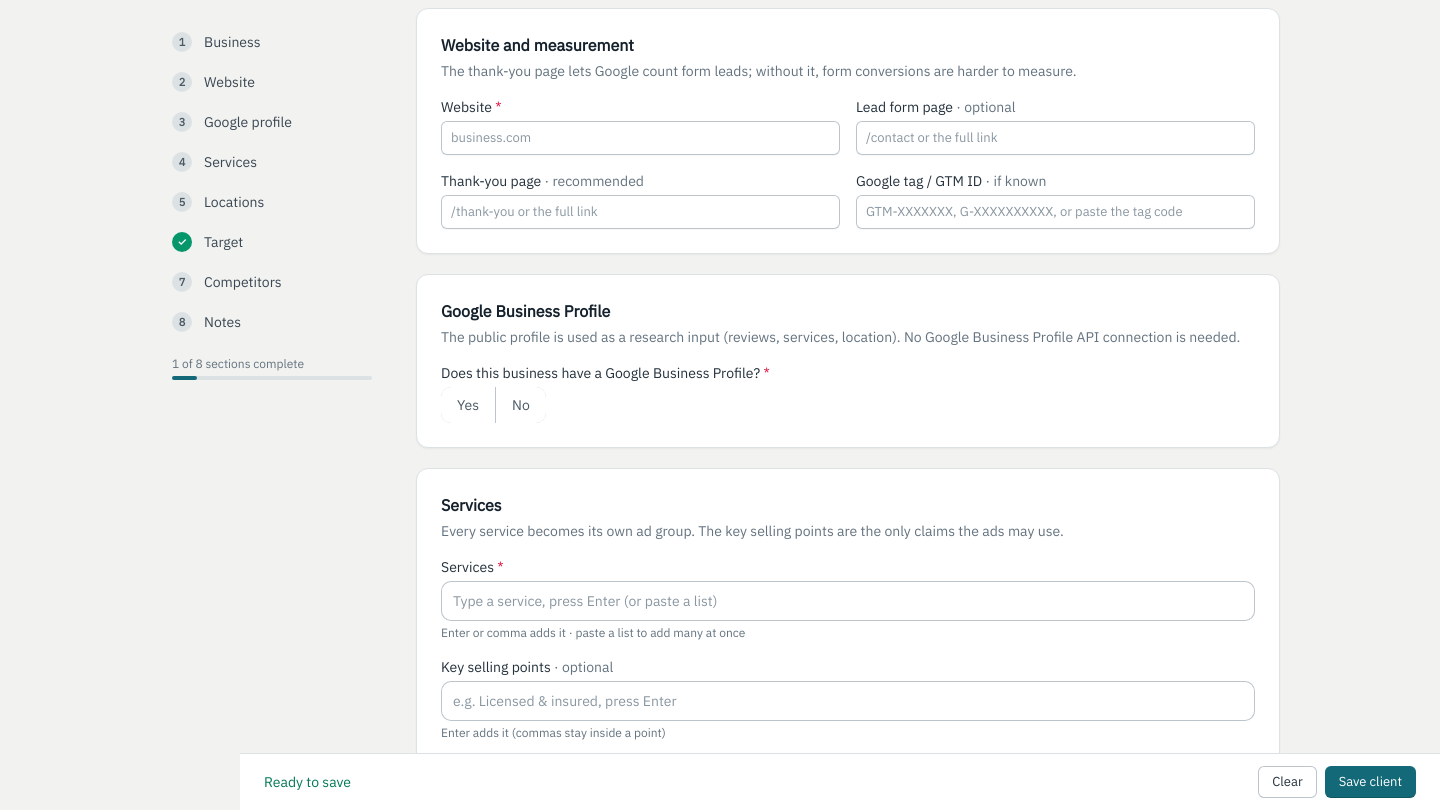
Test case: client intake form › shows the Google Business Profile URL only after Yes, and clears it on No
The width and height of the screenshot is (1440, 810).
(page scrolled)
Expected: the field labelled "Google Business Profile URL" is not shown
Expected: the element named "Has Google Business Profile" is shown, [441,387,546,423]
Click the button "Yes". click: (468, 405)
box: [441,387,495,423]
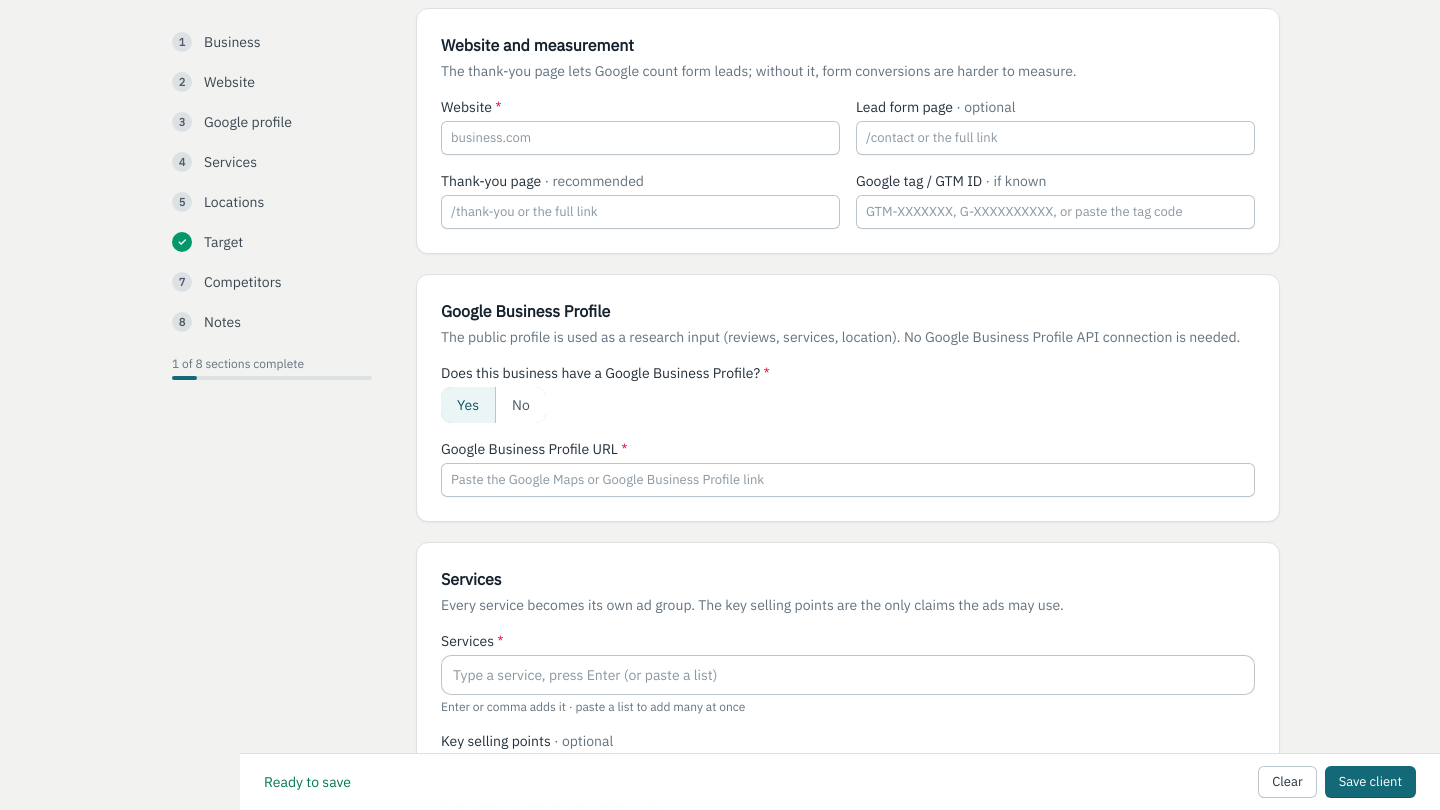
Type "https://maps.app.goo.gl/abc" into the field with placeholder "Paste the Google Maps or Google Business Profile link". click: (848, 480)
box: [441,463,1255,497]
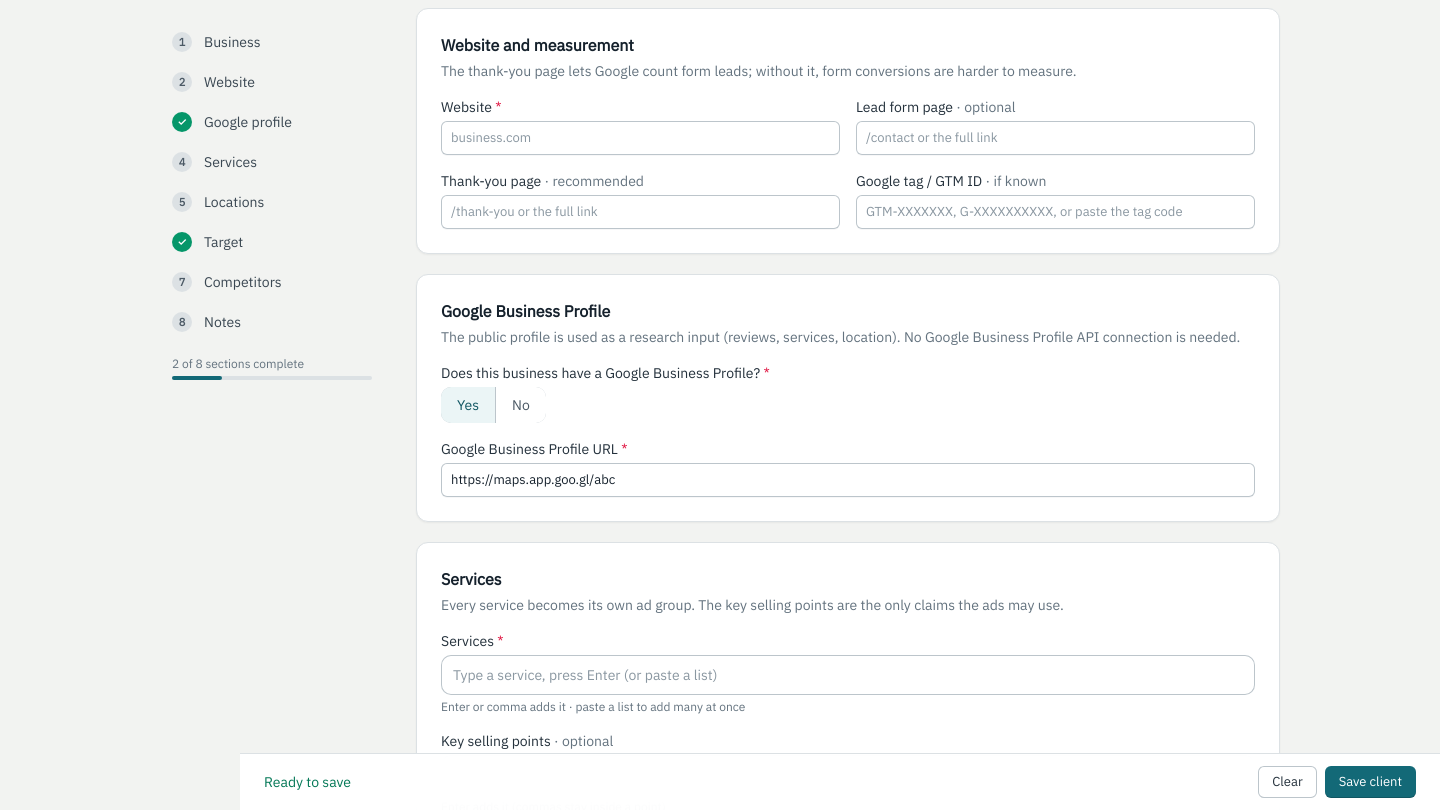
Click the button "No". click: (520, 405)
box: [495,387,546,423]
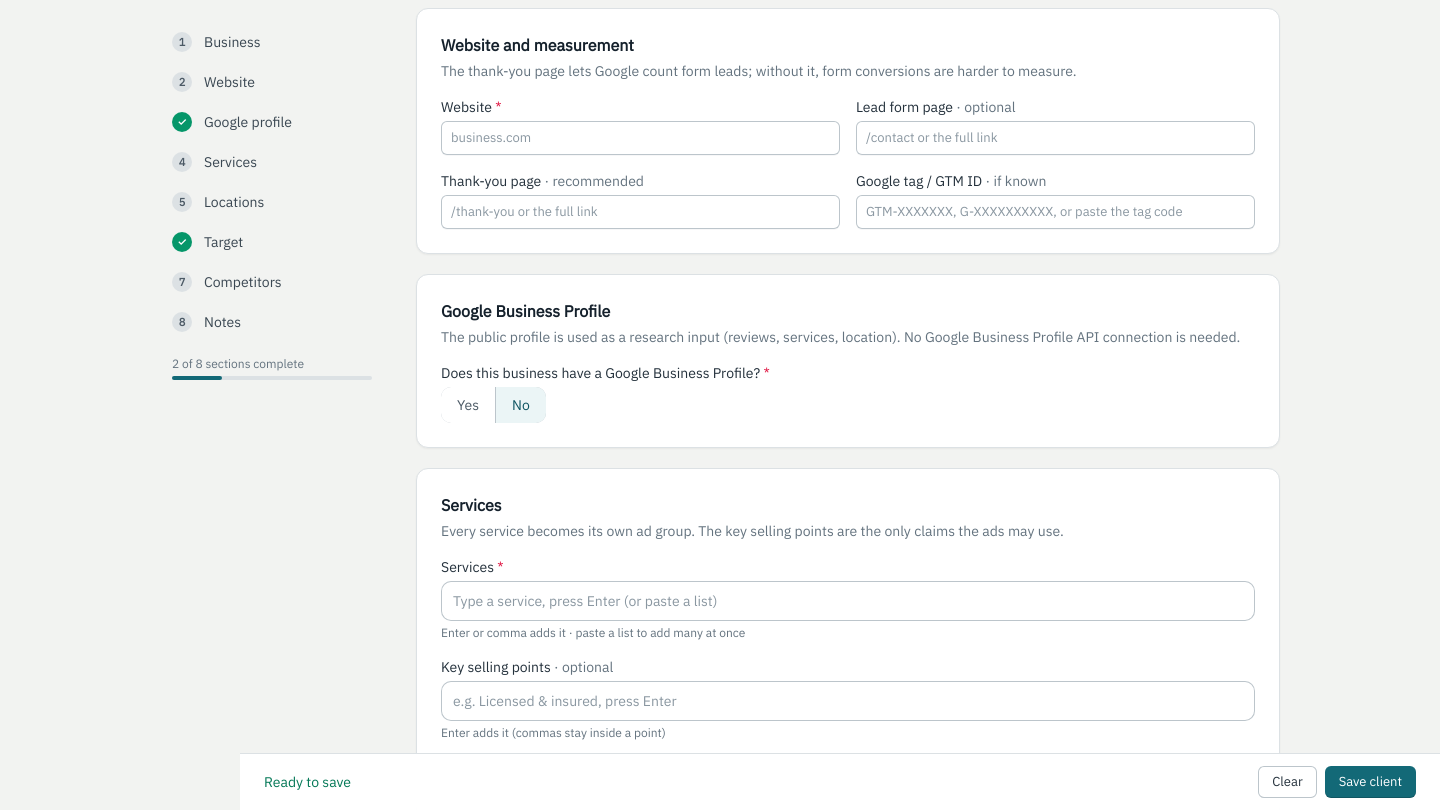
Expected: the field with placeholder "Paste the Google Maps or Google Business Profile link" is not shown
Click the button "Yes". click: (468, 405)
box: [441,387,495,423]
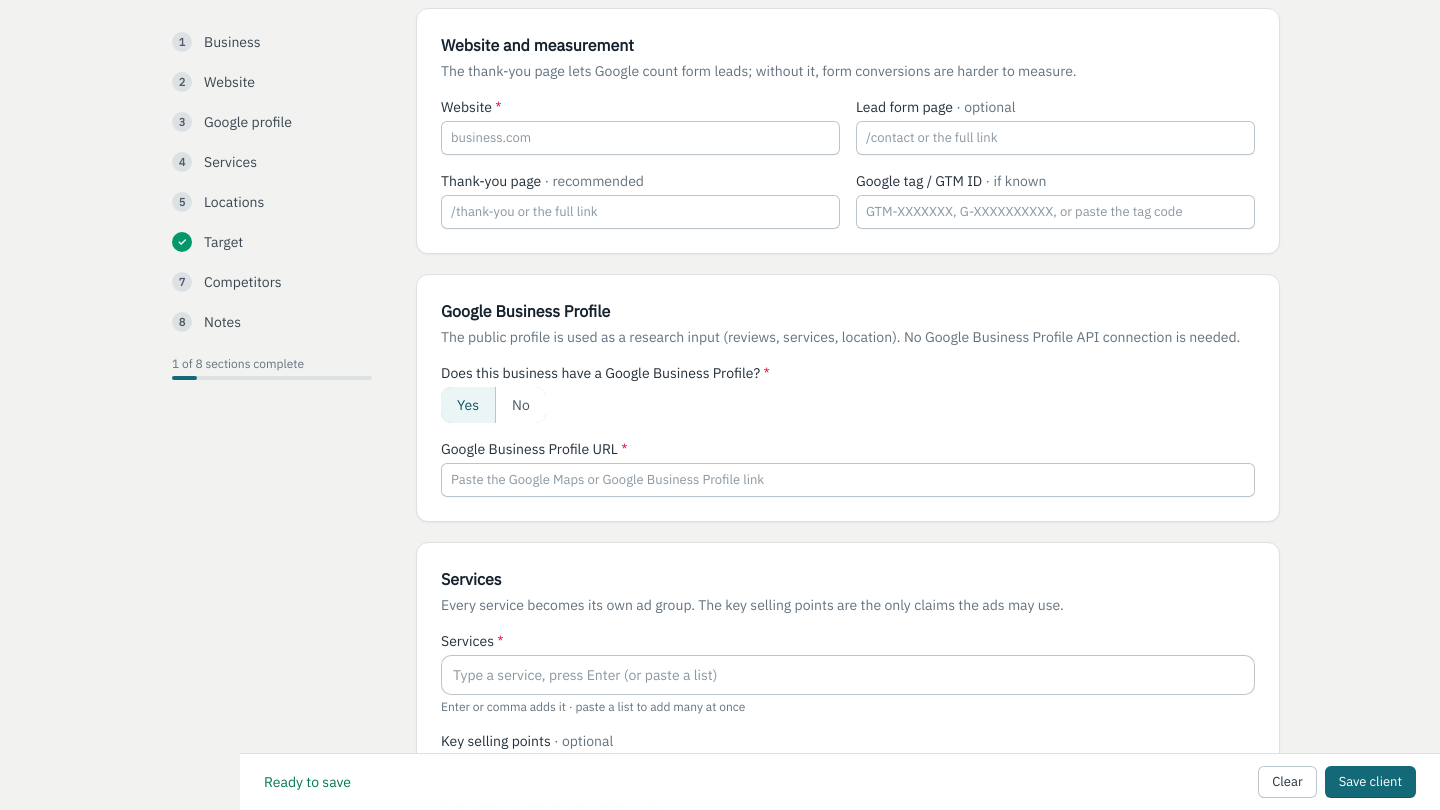
Result: the field with placeholder "Paste the Google Maps or Google Business Profile link" is empty at [441,463,1255,497]
